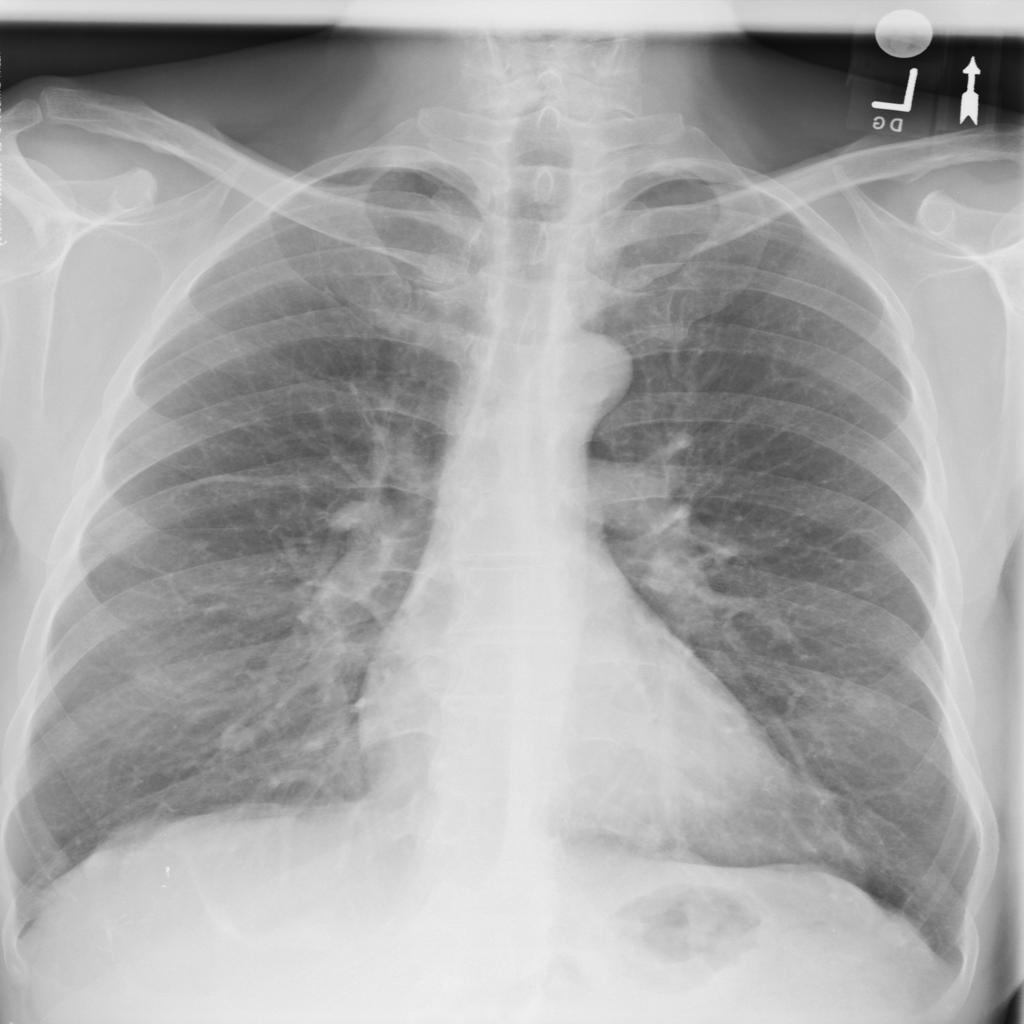nodule: (828, 671, 908, 734), (208, 711, 265, 759)
